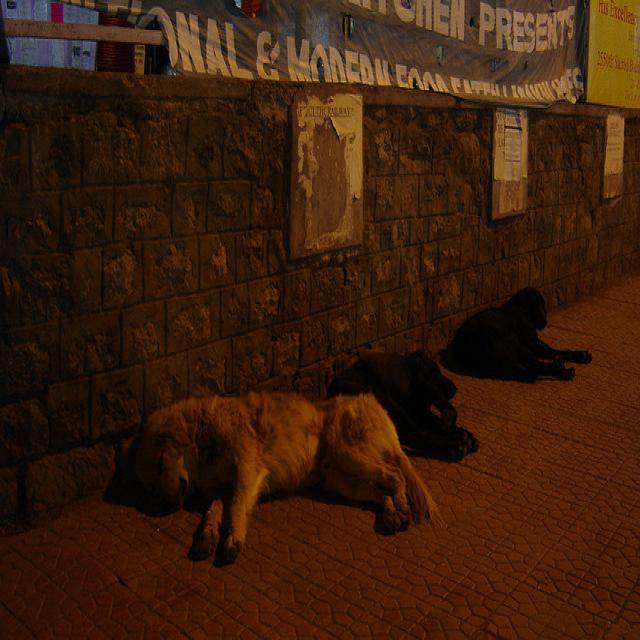Dog: (148, 284, 423, 604), (447, 248, 580, 412), (368, 289, 493, 459)
